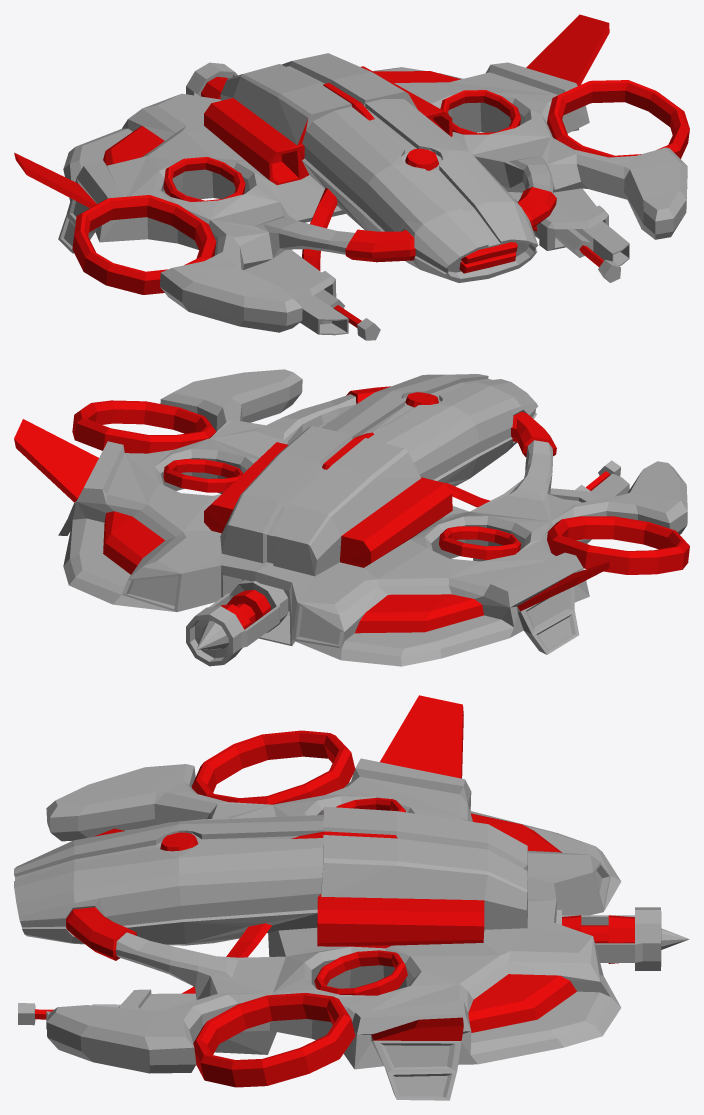
Rendered from Kenos4.fbx.
3 views of the same model, one above another, from view 1: azimuth 30°, elevation 25°; view 2: azimuth 150°, elevation 25°; view 3: azimuth 270°, elevation 25° (orthographic). The views are drawn at different scales.
Visible parts, largest first — view 1: kenos4_diffuse, kenos4_color; view 2: kenos4_diffuse, kenos4_color; view 3: kenos4_diffuse, kenos4_color.
Part boxes in pixels (box(x1,y1,x2,y2)): kenos4_diffuse: box(58, 53, 687, 340); kenos4_color: box(14, 14, 689, 327); kenos4_diffuse: box(58, 369, 687, 666); kenos4_color: box(14, 386, 689, 633); kenos4_diffuse: box(14, 758, 689, 1100); kenos4_color: box(35, 695, 634, 1087).
Bounding box in the file's own units: 11.54 × 2.35 × 9.94.
